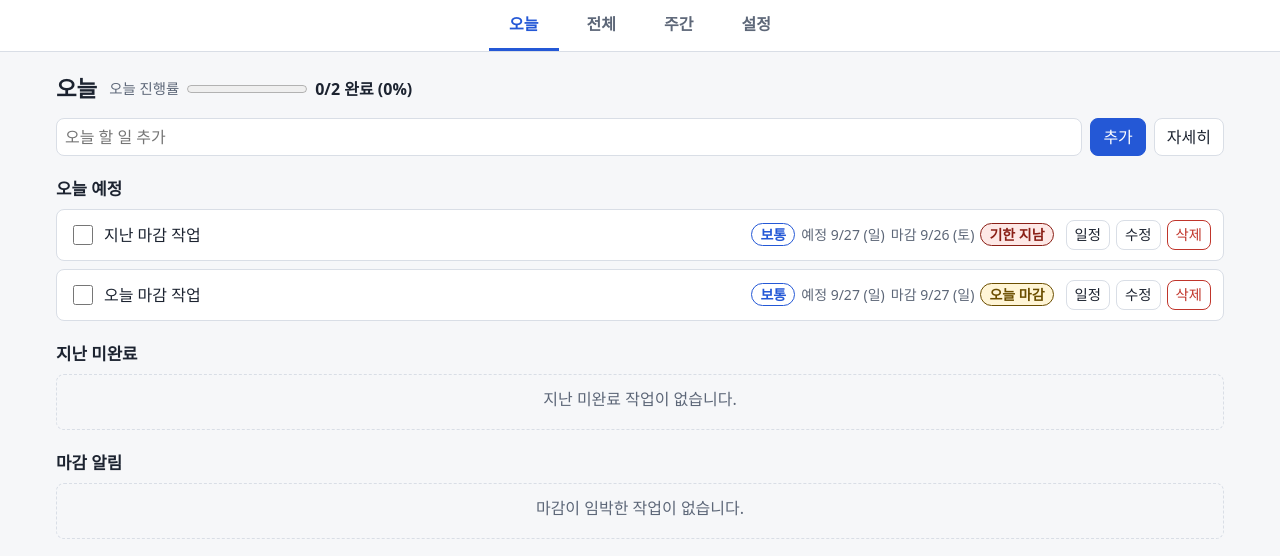
Test case: 오늘 화면 › "오늘 마감"·"기한 지남" 배지가 텍스트로 붙고, 완료하면 사라진다 (AC8)
This screenshot has width=1280, height=556.
Expected: the text "오늘 마감" is shown, [980, 283, 1054, 306]
Expected: the text "기한 지남" is shown, [980, 223, 1054, 246]
Click the checkbox labelled "지난 마감 작업".
click(83, 235)  # box [73, 225, 93, 245]
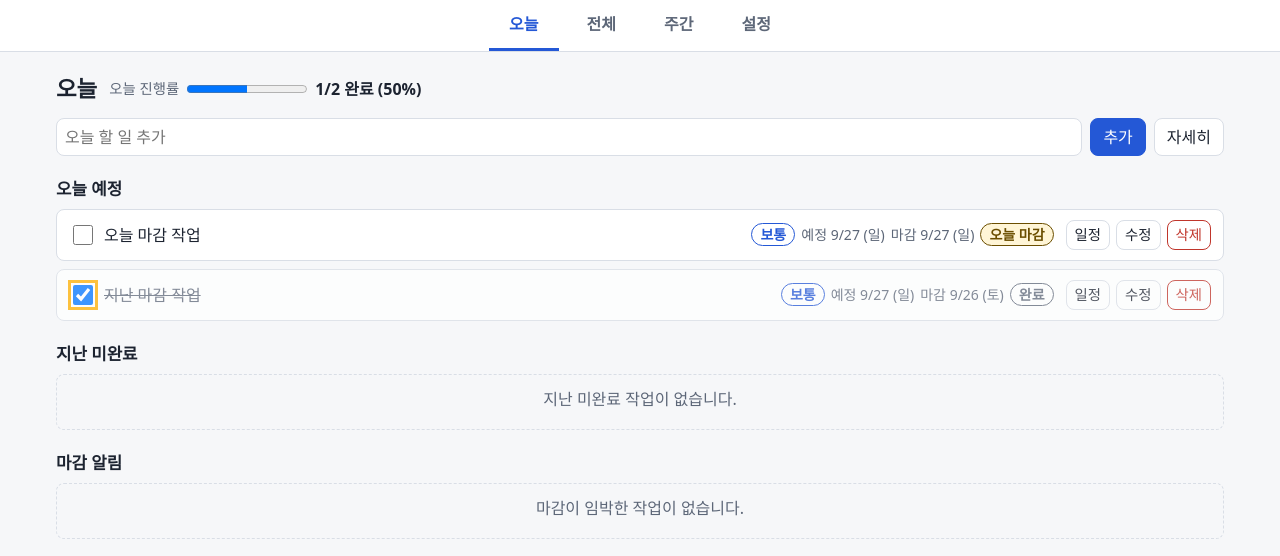
Expected: the text "기한 지남" is gone
